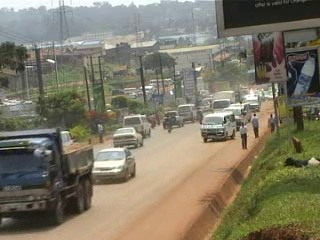Car: (90, 146, 137, 183), (112, 125, 146, 152), (158, 109, 184, 129)
Motorcycle: (164, 114, 175, 134), (146, 110, 156, 129)
